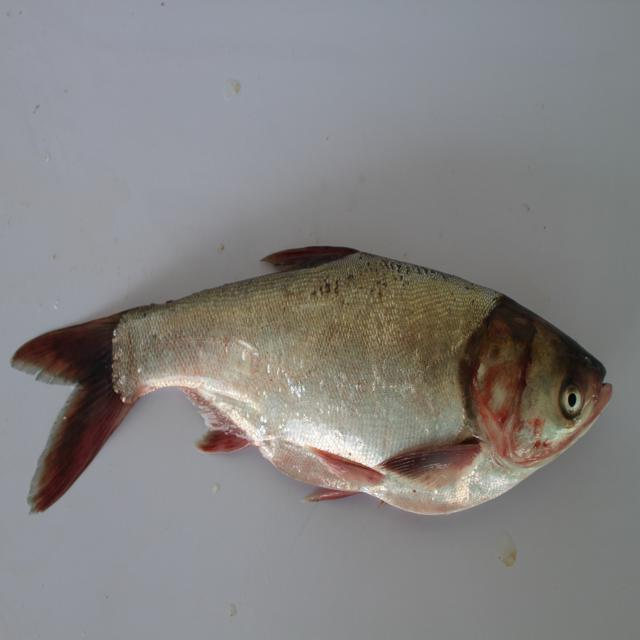SilverCarp: (4, 215, 596, 533)
